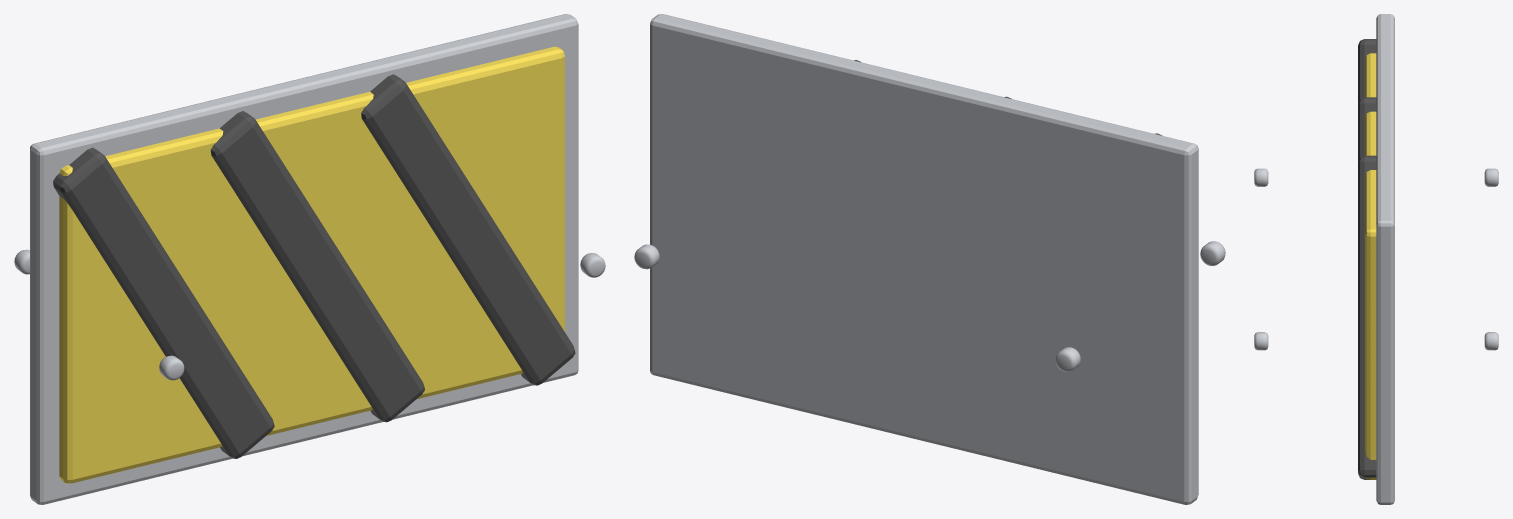
Rendered from знак_опасности.glb.
The picture shows the model from 3 angles, left to right: view 1: azimuth 30°, elevation 25°; view 2: azimuth 150°, elevation 25°; view 3: azimuth 270°, elevation 25°; orthographic projection. The views are drawn at different scales.
Parts seen in each view (by area): view 1: знак_опасности; view 2: знак_опасности; view 3: знак_опасности.
Part boxes in pixels (left/top/right/bottom): знак_опасности: left=14, top=14, right=605, bottom=504; знак_опасности: left=634, top=14, right=1225, bottom=504; знак_опасности: left=1254, top=14, right=1498, bottom=504.
Size of the model in its own units: 1.08 by 0.68 by 0.53.
